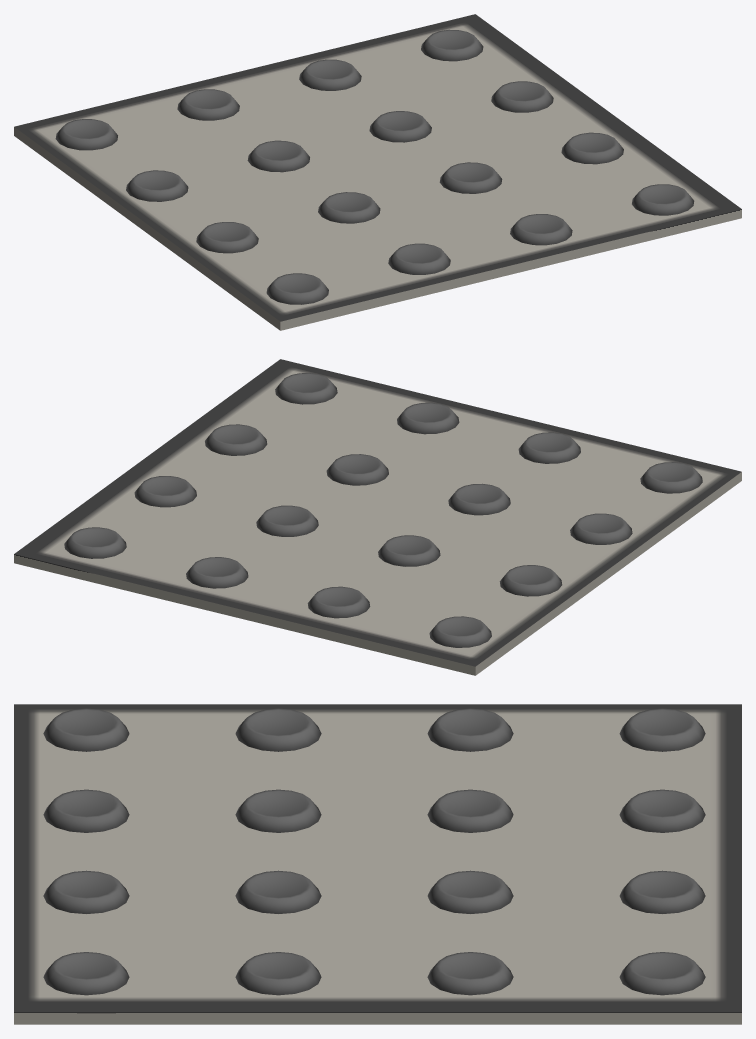
The model's file is Trap Plane.fbx.
3 views of the same model, one above another, from view 1: azimuth 30°, elevation 25°; view 2: azimuth 150°, elevation 25°; view 3: azimuth 270°, elevation 25° (orthographic). The views are drawn at different scales.
Parts seen in each view (by area): view 1: Cube; view 2: Cube; view 3: Cube.
Boxes of the visible parts, x1=… form: Cube: x1=14, y1=14, x2=741, y2=330; Cube: x1=14, y1=359, x2=741, y2=675; Cube: x1=14, y1=704, x2=741, y2=1024.
Size of the model in its own units: 78.74 by 2.78 by 78.74.
